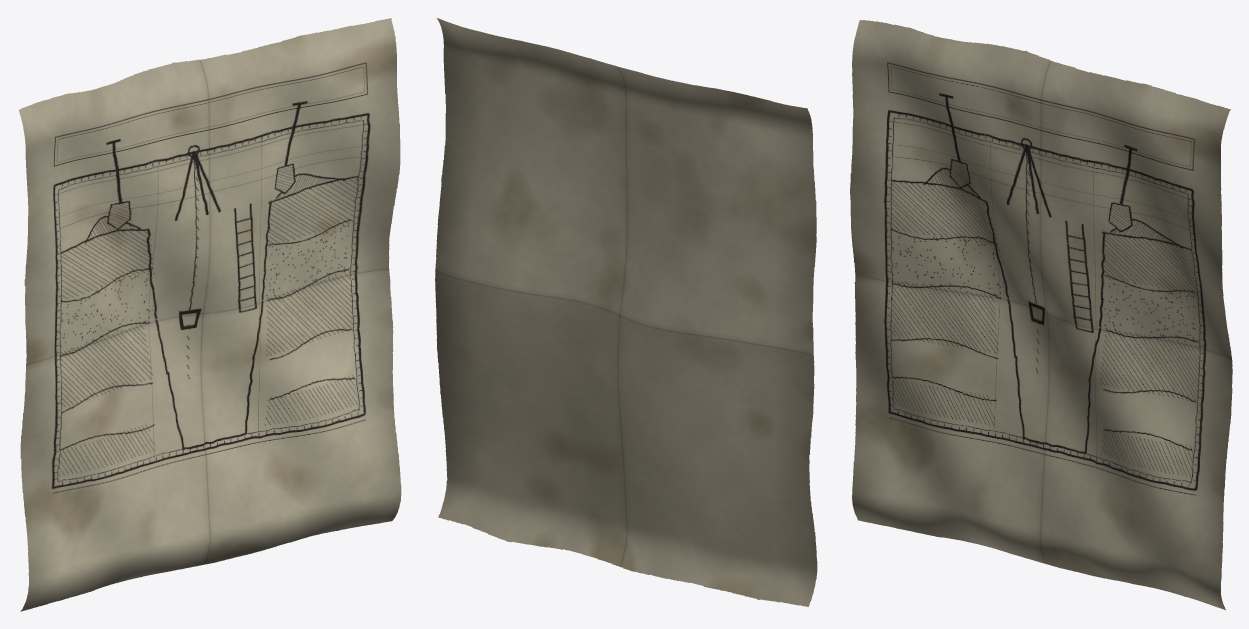
The model's file is periodico_4.glb.
3 views of the same model, side by side, from view 1: azimuth 30°, elevation 25°; view 2: azimuth 150°, elevation 25°; view 3: azimuth 330°, elevation 25° (orthographic).
Visible parts, largest first — view 1: Hoja_frente; view 2: Hoja_reverso; view 3: Hoja_frente.
Part boxes in pixels (x1=…): Hoja_frente: x1=19, y1=18, x2=401, y2=611; Hoja_reverso: x1=435, y1=18, x2=817, y2=606; Hoja_frente: x1=850, y1=20, x2=1232, y2=609.
Size of the model in its own units: 0.304 by 0.392 by 0.0249.
Materials: 2 (2 with a texture image).
